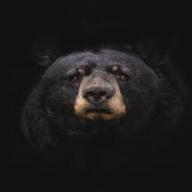animals: (46, 52, 161, 126)
